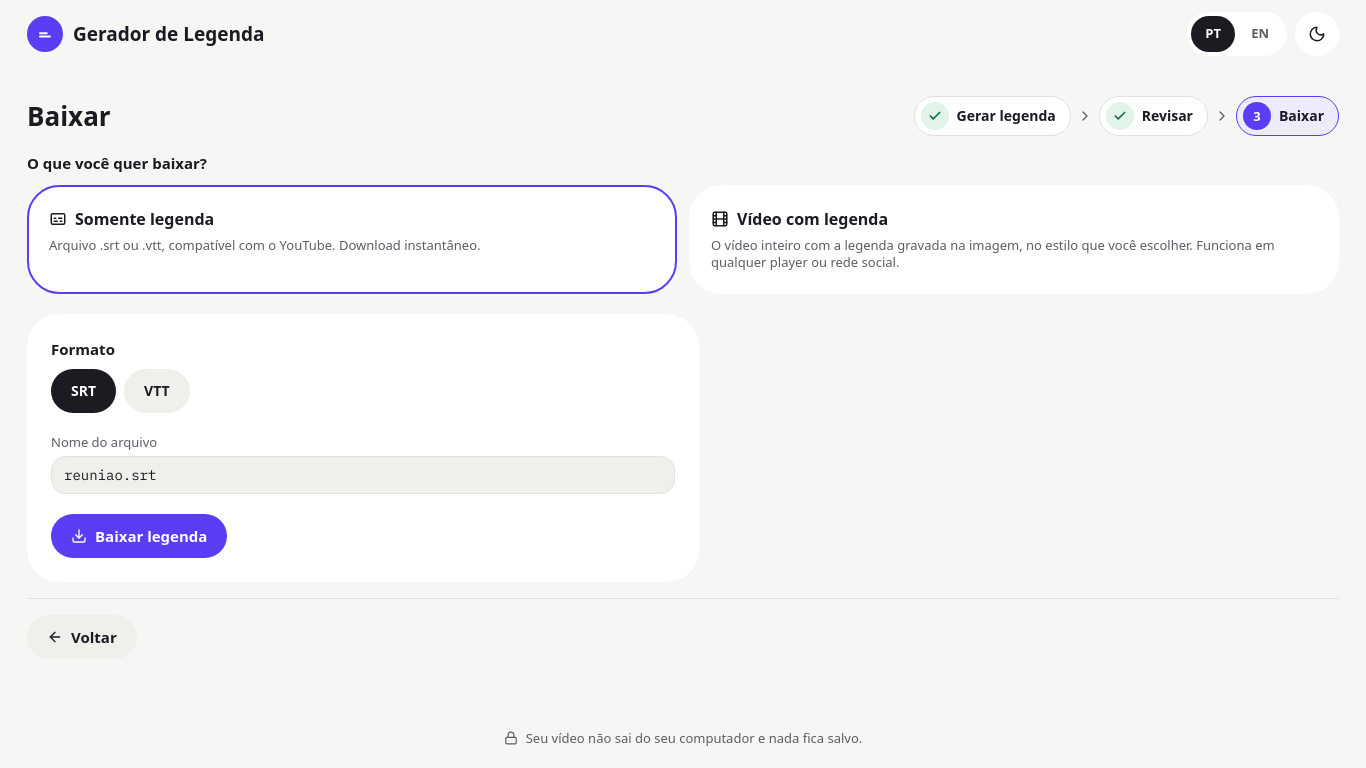
Test case: Requirement: Tela de download da legenda › Scenario: Nome do arquivo
Check: the heading "Baixar" is shown, box [27, 96, 111, 136]
Check: the text with test id "file-name" reads "reuniao.srt", box [64, 466, 156, 484]
Click the radio button labelled "VTT" at [157, 391], box [124, 369, 190, 413]
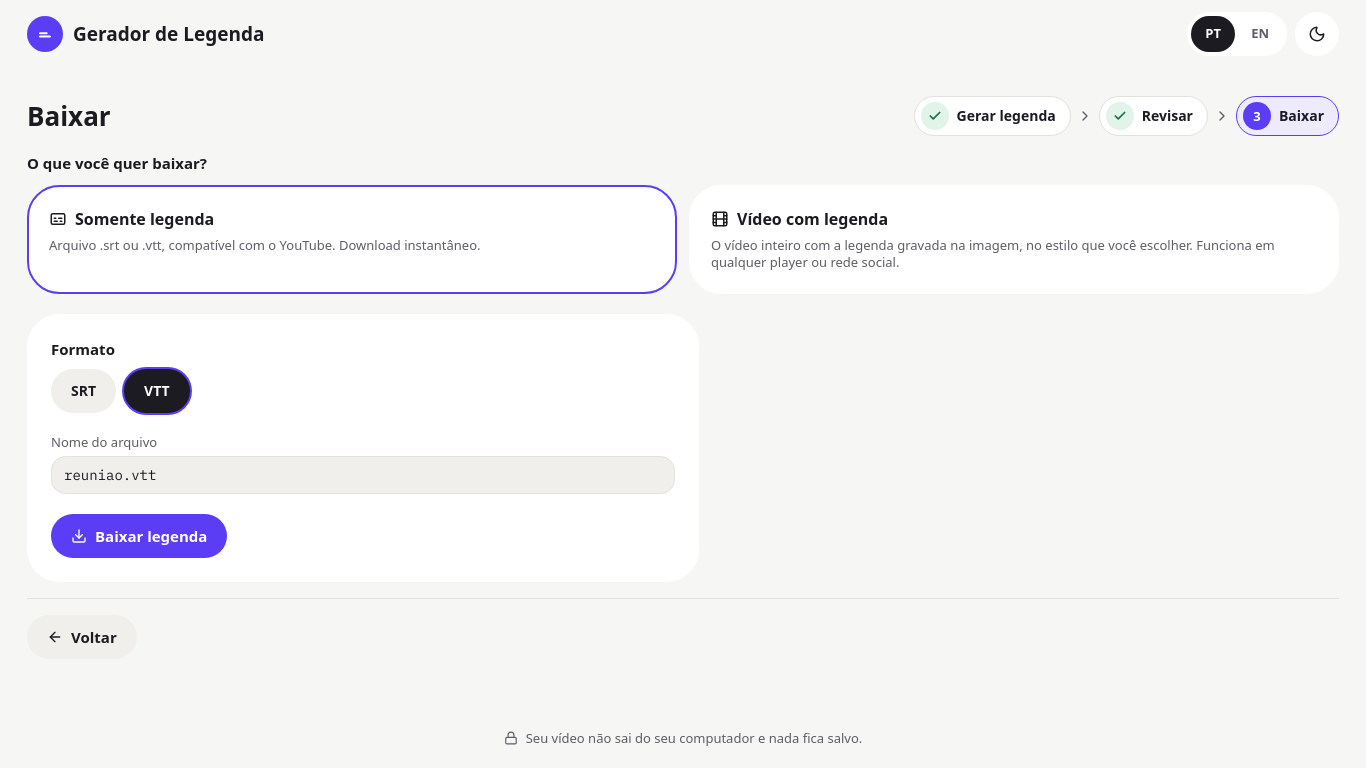
Check: the text with test id "file-name" reads "reuniao.vtt", box [64, 466, 156, 484]
